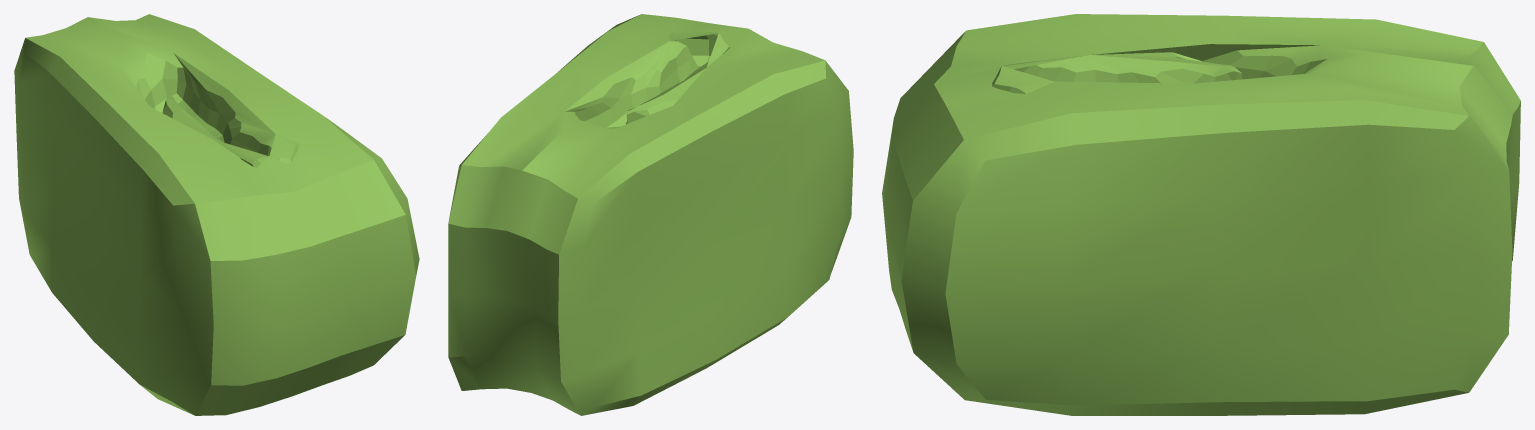
Rendered from Rune3.obj.
3 renders of one model, left to right at view 1: azimuth 30°, elevation 25°; view 2: azimuth 150°, elevation 25°; view 3: azimuth 270°, elevation 25°, orthographic. The views are drawn at different scales.
Visible parts, largest first — view 1: Rune3; view 2: Rune3; view 3: Rune3.
Boxes of the visible parts, x1=… form: Rune3: x1=14, y1=14, x2=419, y2=415; Rune3: x1=448, y1=14, x2=853, y2=415; Rune3: x1=882, y1=14, x2=1520, y2=415.
Size of the model in its own units: 3.72 by 3.9 by 6.99.
